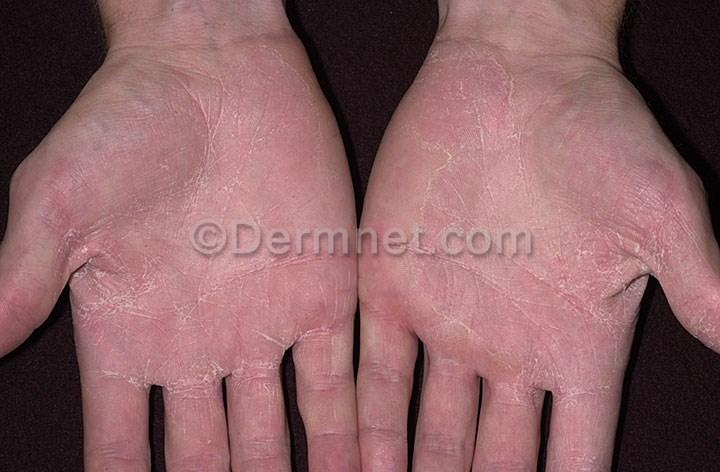Eczema: (433, 44, 540, 119), (554, 222, 625, 329), (419, 131, 503, 220), (40, 192, 128, 276), (71, 283, 163, 354), (627, 190, 690, 268), (417, 292, 478, 367), (120, 364, 223, 401), (549, 370, 620, 416), (549, 422, 611, 472), (681, 287, 720, 355), (485, 336, 537, 386)
